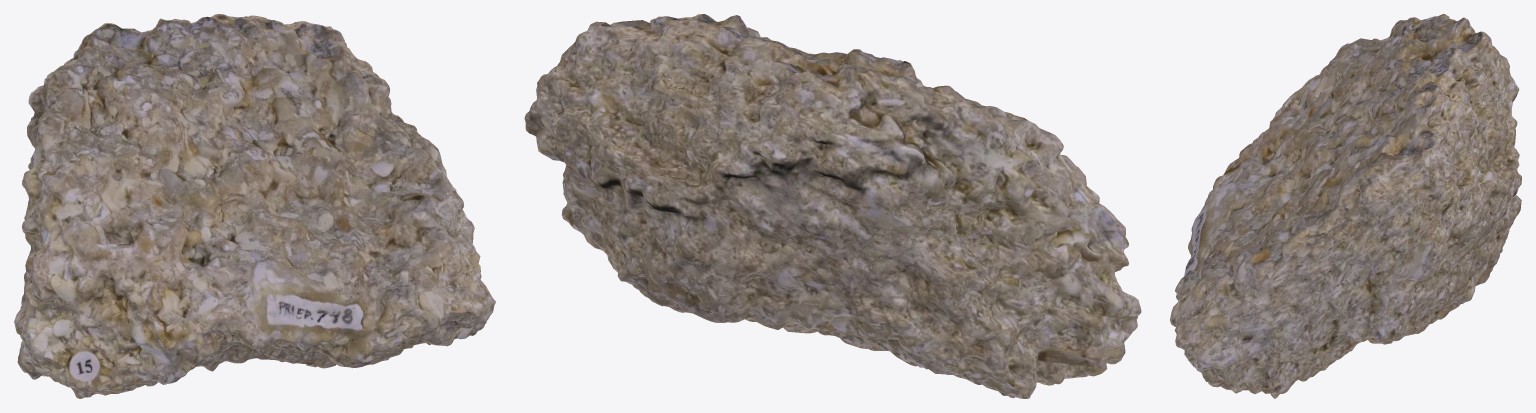
The model's file is сoquina.glb.
3 renders of one model, left to right at view 1: azimuth 30°, elevation 25°; view 2: azimuth 150°, elevation 25°; view 3: azimuth 270°, elevation 25°, orthographic. The views are drawn at different scales.
Parts seen in each view (by area): view 1: Object_2; view 2: Object_2; view 3: Object_2.
Boxes of the visible parts, <box> form: Object_2: <box>14,14,495,398</box>; Object_2: <box>524,14,1141,398</box>; Object_2: <box>1170,14,1521,398</box>.
Bounding box in the file's own units: 2.35 × 1.62 × 1.81.
1 material, 1 textured.
